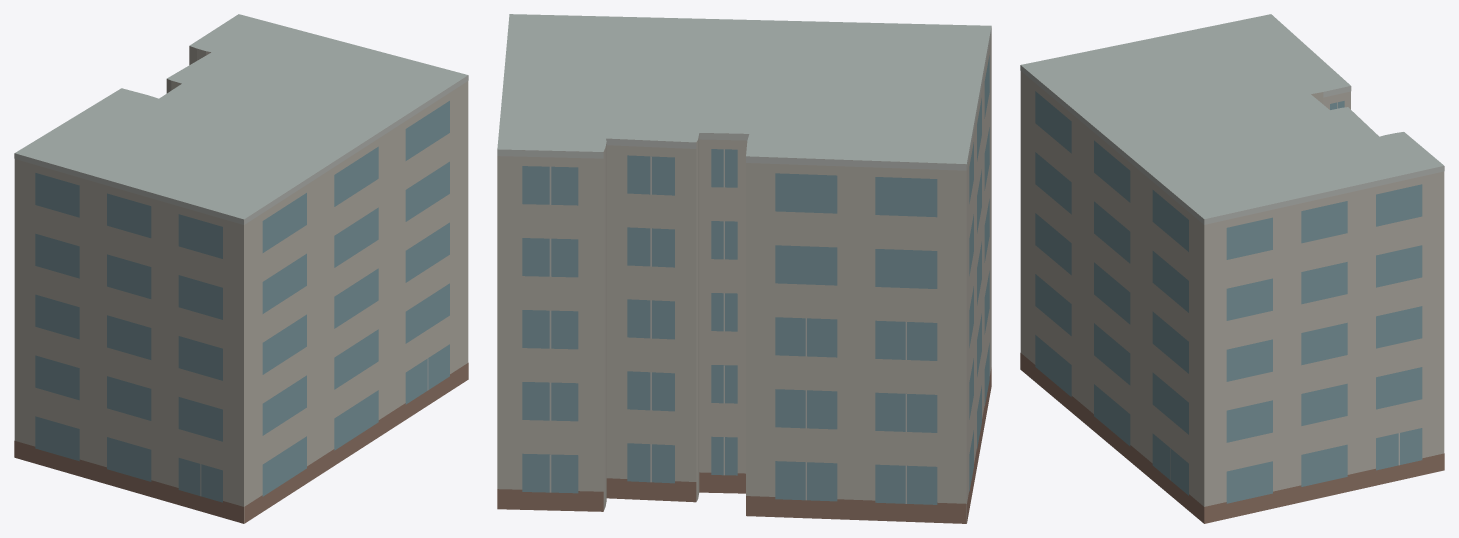
File: survey-upis-32891426.glb
3 renders of one model, left to right at view 1: azimuth 30°, elevation 25°; view 2: azimuth 150°, elevation 25°; view 3: azimuth 270°, elevation 25°, orthographic. The views are drawn at different scales.
Visible parts, largest first — view 1: survey-upis-32891426.tmp; view 2: survey-upis-32891426.tmp; view 3: survey-upis-32891426.tmp.
Part boxes in pixels (x1,y1,x2,y2): survey-upis-32891426.tmp: (14,14,468,523); survey-upis-32891426.tmp: (497,14,991,523); survey-upis-32891426.tmp: (1020,14,1444,523).
Bounding box in the file's own units: 19.09 × 13.2 × 16.66.
